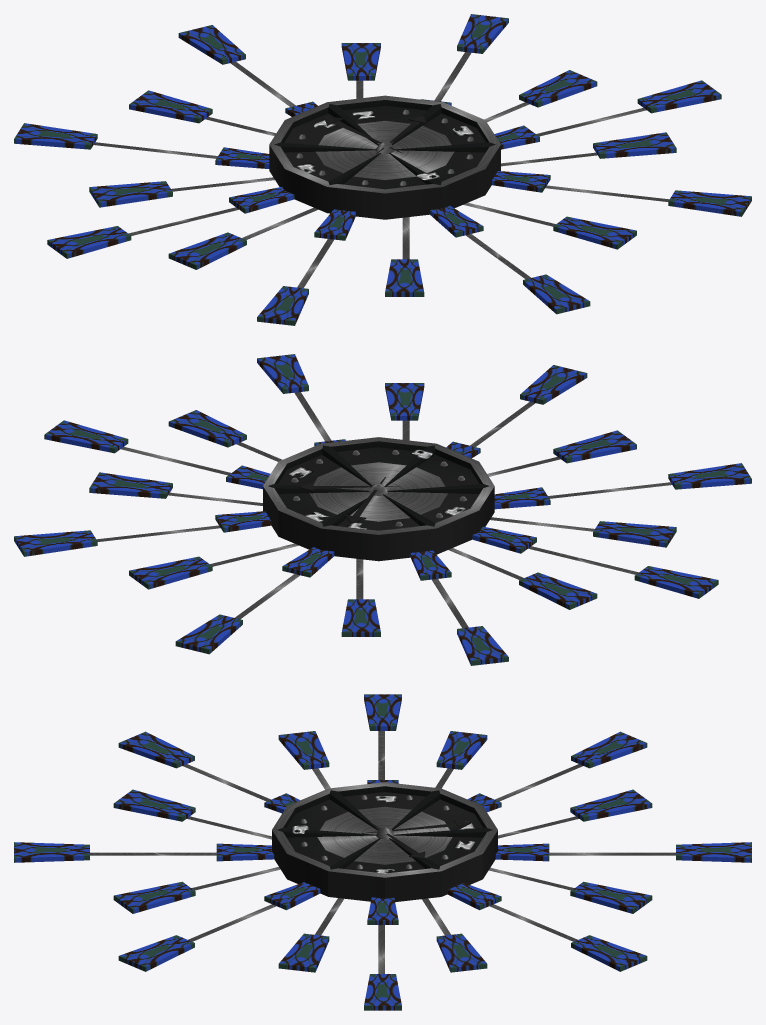
File: Clock_01_G.FBX
3 views of the same model, one above another, from view 1: azimuth 30°, elevation 25°; view 2: azimuth 150°, elevation 25°; view 3: azimuth 270°, elevation 25° (orthographic). The views are drawn at different scales.
Parts seen in each view (by area): view 1: Starburst_Clock; view 2: Starburst_Clock; view 3: Starburst_Clock.
Part boxes in pixels (x1=…): Starburst_Clock: x1=14, y1=14, x2=751, y2=325; Starburst_Clock: x1=14, y1=354, x2=751, y2=665; Starburst_Clock: x1=14, y1=694, x2=751, y2=1010.
Bounding box in the file's own units: 78.3 × 3.32 × 78.3.
